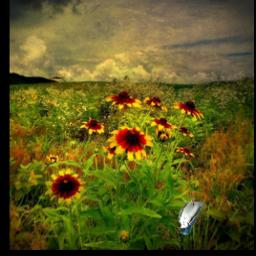Swallow: (179, 197, 206, 236)
